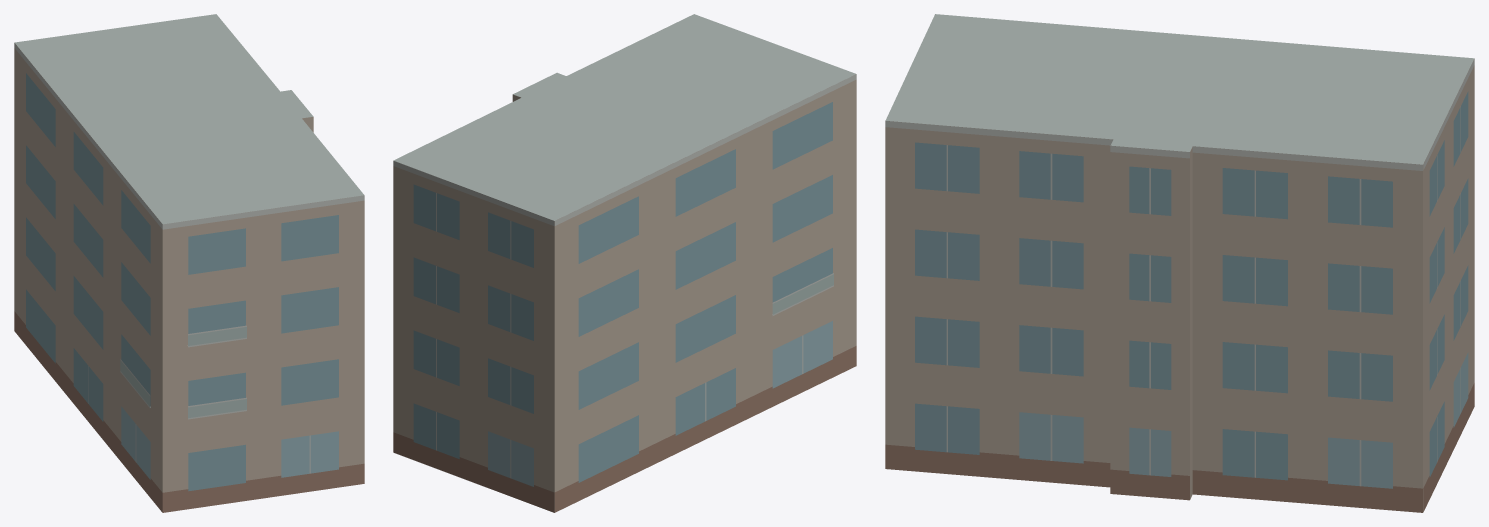
File: survey-upis-32536265.glb
The picture shows the model from 3 angles, left to right: view 1: azimuth 30°, elevation 25°; view 2: azimuth 150°, elevation 25°; view 3: azimuth 270°, elevation 25°; orthographic projection. The views are drawn at different scales.
Parts seen in each view (by area): view 1: survey-upis-32536265.tmp; view 2: survey-upis-32536265.tmp; view 3: survey-upis-32536265.tmp.
Part boxes in pixels (x1,y1,x2,y2): survey-upis-32536265.tmp: (14,14,364,512); survey-upis-32536265.tmp: (393,14,856,512); survey-upis-32536265.tmp: (885,14,1474,512).
Bounding box in the file's own units: 12.35 × 13.3 × 20.41.
